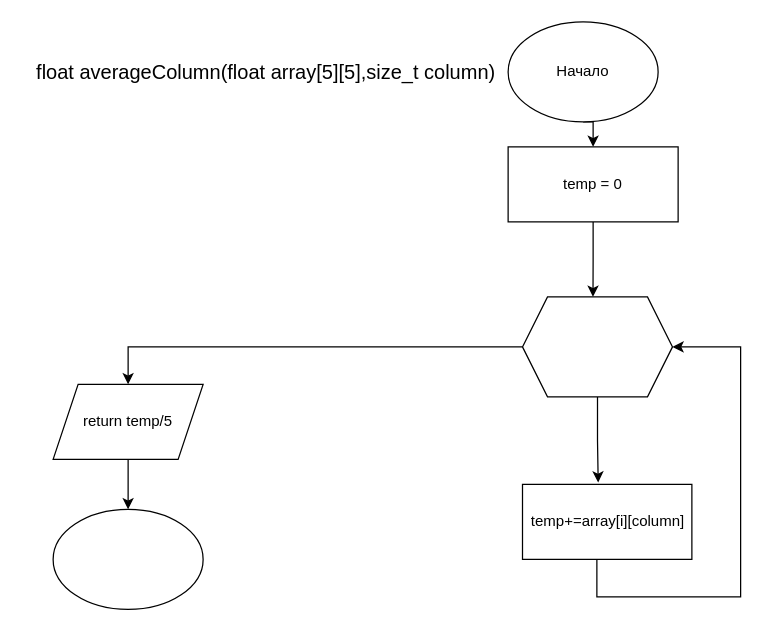
The diagram is 773 pixels wide and 631 high, and some of its shapes have lost their labels. The shapes that lost their labels are listed below. From the top down, each one's centre as x and y in pixels, then its label:
At [596,346]: "int i=0;i<5;i++".
At [127,558]: "Конец".
